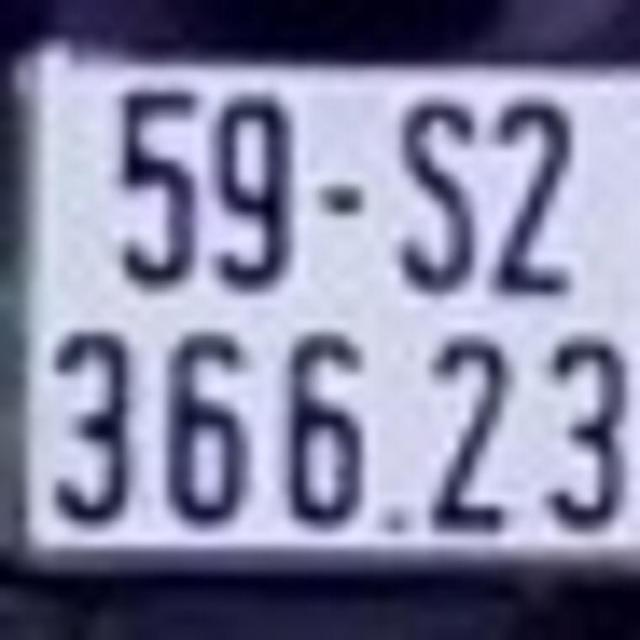2: (416, 330, 515, 533), (490, 96, 580, 299)
3: (50, 321, 137, 536), (547, 329, 628, 529)
5: (115, 85, 205, 276)
6: (281, 322, 370, 528), (164, 328, 253, 527)
9: (210, 97, 299, 282)
S: (400, 91, 481, 292)
